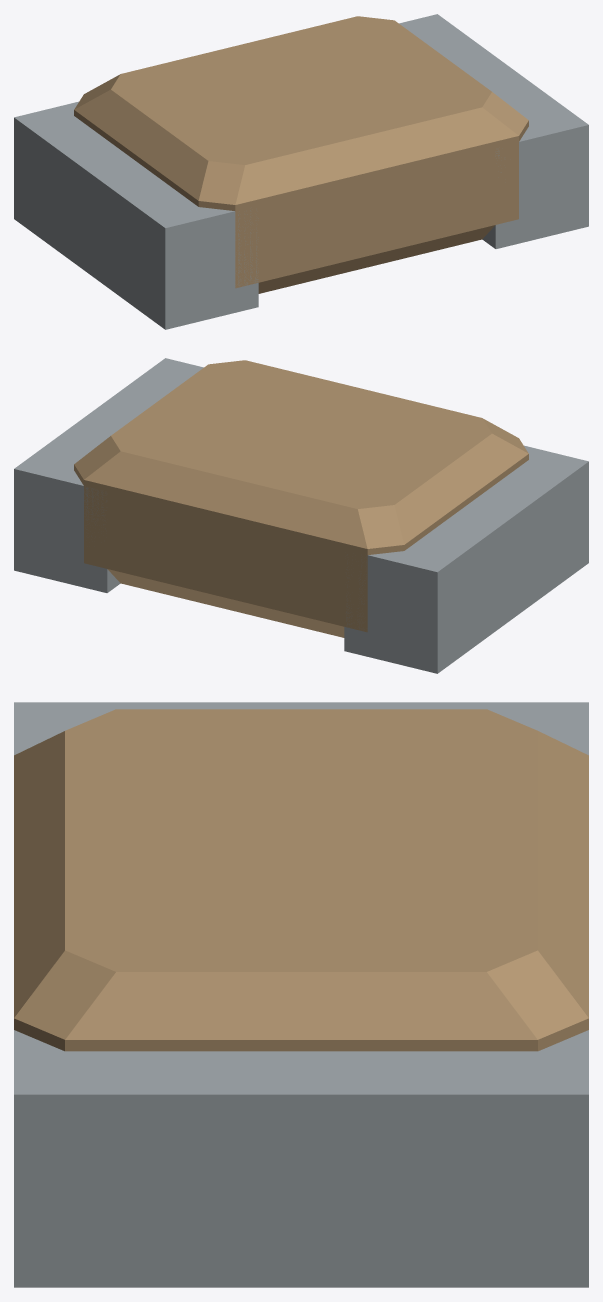
Rendered from L128_SMD_0002.fbx.
3 views of the same model, one above another, from view 1: azimuth 30°, elevation 25°; view 2: azimuth 150°, elevation 25°; view 3: azimuth 270°, elevation 25° (orthographic). The views are drawn at different scales.
Visible parts, largest first — view 1: SMD_0002__Ceramic, SMD_0002__Solder; view 2: SMD_0002__Ceramic, SMD_0002__Solder; view 3: SMD_0002__Ceramic, SMD_0002__Solder.
Boxes of the visible parts, <box> form: SMD_0002__Ceramic: <box>74,16,528,293</box>; SMD_0002__Solder: <box>14,14,588,329</box>; SMD_0002__Ceramic: <box>74,360,528,637</box>; SMD_0002__Solder: <box>14,358,588,673</box>; SMD_0002__Ceramic: <box>14,709,588,1051</box>; SMD_0002__Solder: <box>14,702,588,1287</box>.
Bounding box in the file's own units: 2.18 × 0.65 × 1.35.
